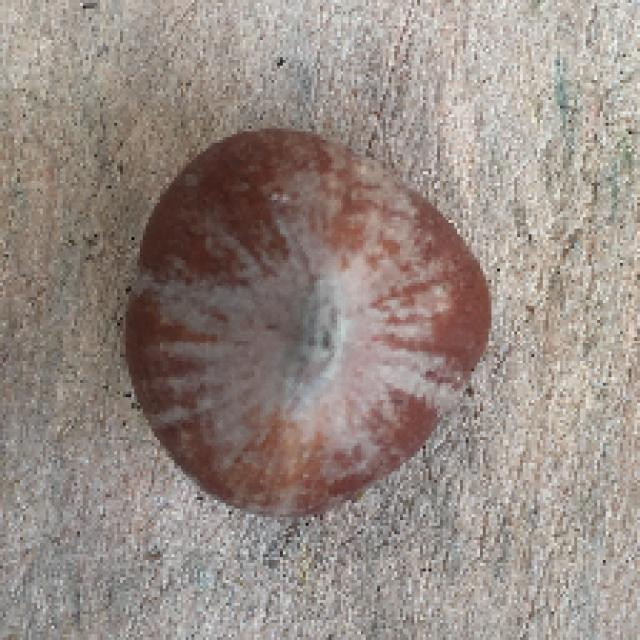damagedHazelnut: (121, 134, 500, 520)
